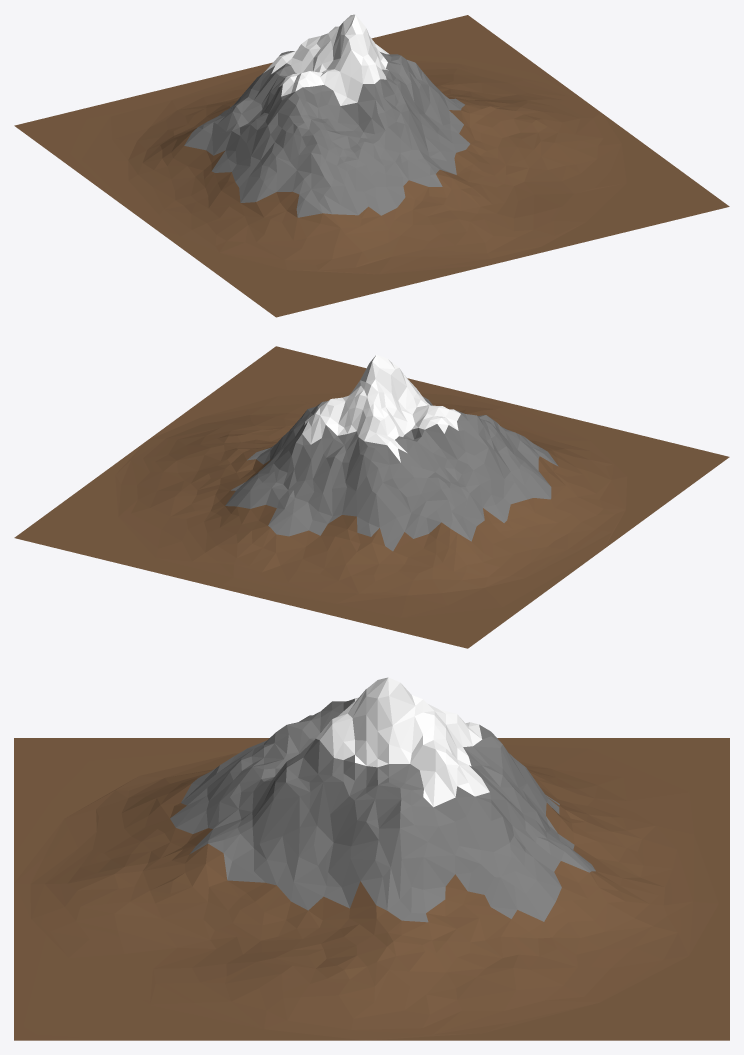
The model's file is Mountain.obj.
3 renders of one model, top to bottom at view 1: azimuth 30°, elevation 25°; view 2: azimuth 150°, elevation 25°; view 3: azimuth 270°, elevation 25°, orthographic. The views are drawn at different scales.
Visible parts, largest first — view 1: mountain01; view 2: mountain01; view 3: mountain01.
Boxes of the visible parts, x1,y1,x2,y2 form: mountain01: [14, 14, 729, 317]; mountain01: [14, 346, 729, 648]; mountain01: [14, 677, 729, 1040].
Size of the model in its own units: 100 by 31.57 by 100.
1 material, 1 textured.
